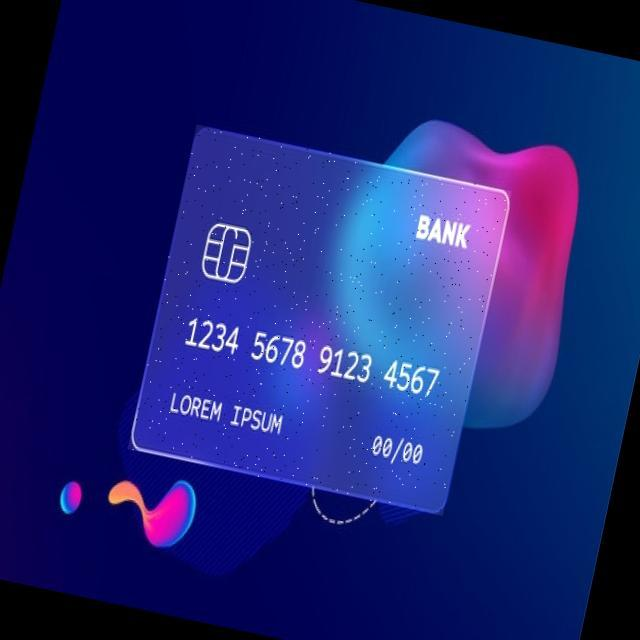payment_card: (129, 123, 511, 516)
